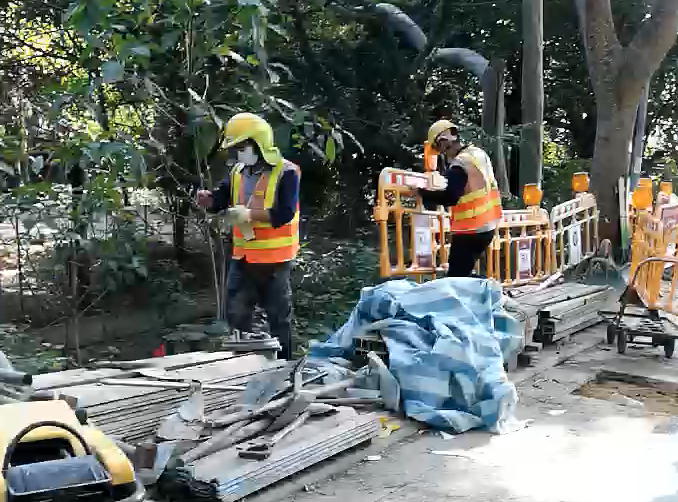Hard Hat: (223, 113, 274, 162), (427, 120, 462, 157)
Person: (221, 112, 296, 361), (426, 119, 503, 279)
Vest: (229, 147, 299, 267), (441, 143, 503, 238)
